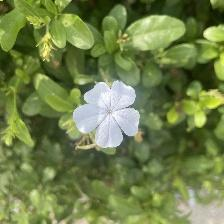chitrak: (74, 78, 145, 148)
